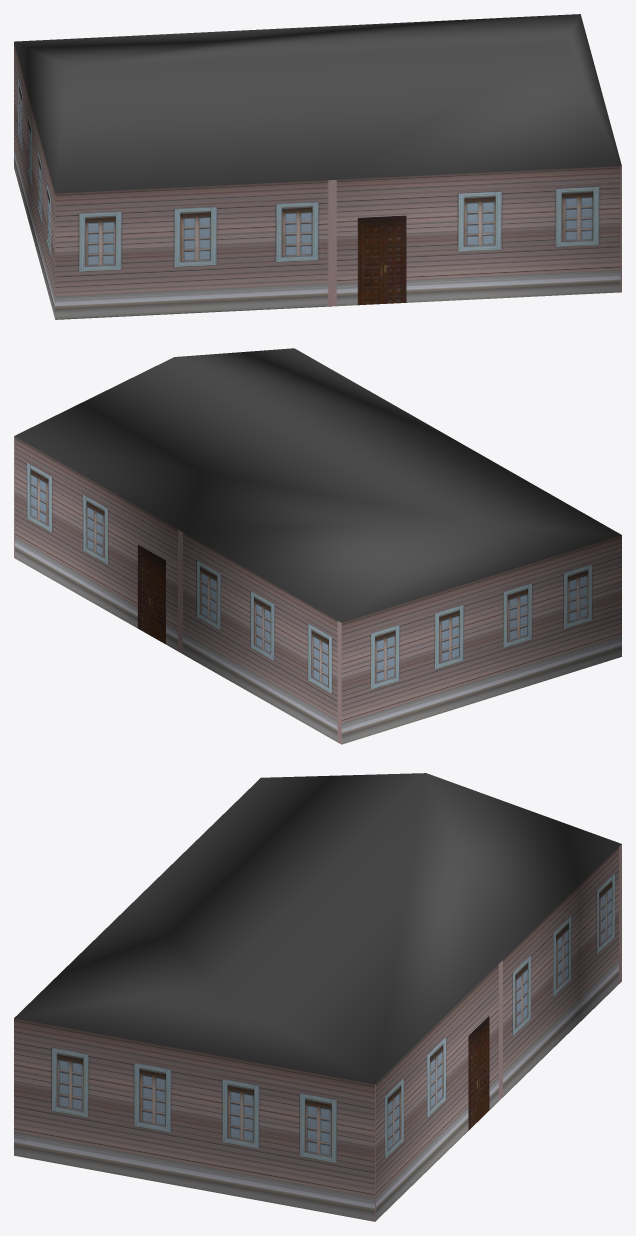
File: lp-building7.fbx
3 views of the same model, one above another, from view 1: azimuth 30°, elevation 25°; view 2: azimuth 150°, elevation 25°; view 3: azimuth 270°, elevation 25° (orthographic). The views are drawn at different scales.
Parts seen in each view (by area): view 1: 01houses.008; view 2: 01houses.008; view 3: 01houses.008.
Boxes of the visible parts, x1,y1,x2,y2 form: 01houses.008: (14,14,621,319); 01houses.008: (14,348,621,744); 01houses.008: (14,773,621,1221).
Bounding box in the file's own units: 754 × 218 × 631.
1 material, 1 textured.
